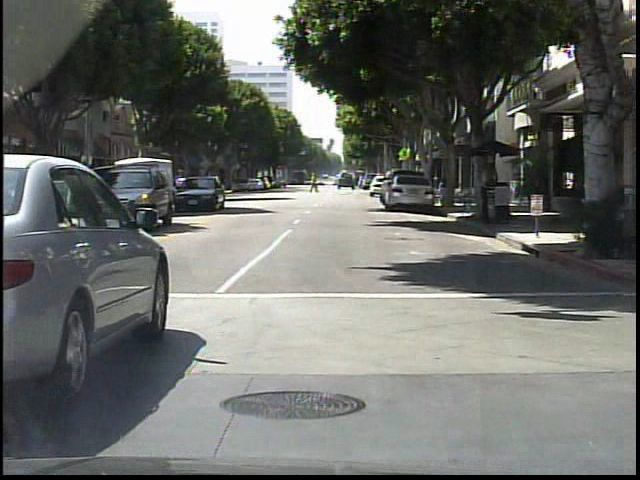person: (481, 161, 501, 223), (594, 165, 611, 237), (311, 175, 321, 195)
